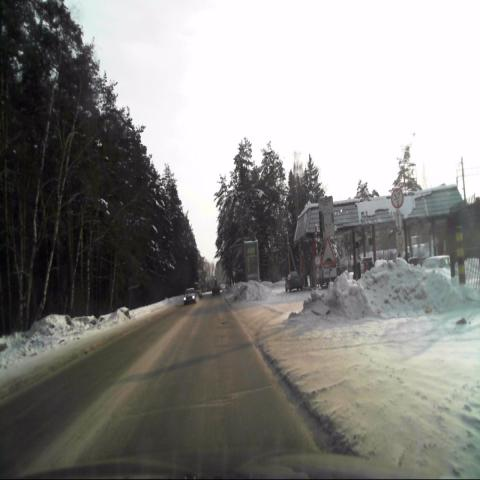3_13: (391, 188, 403, 209)
